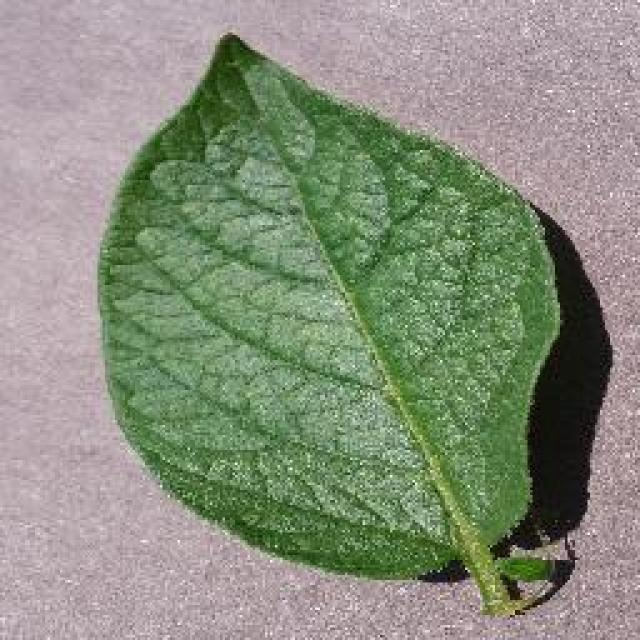healthy: (92, 27, 572, 615)
